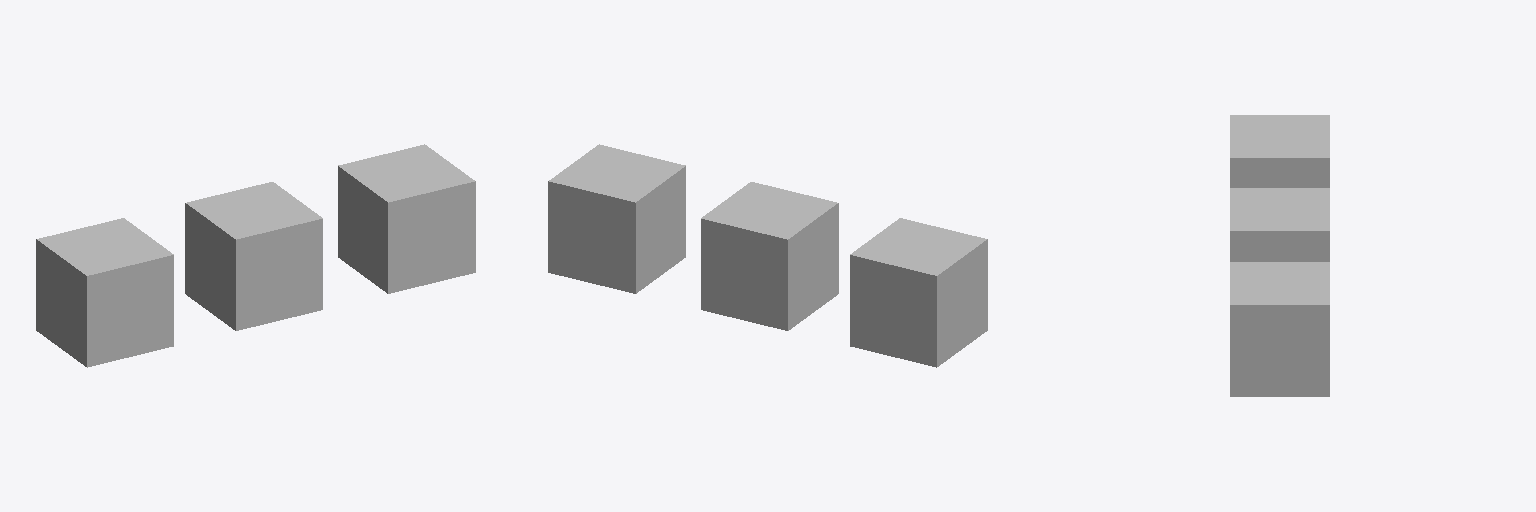
File: caja_tiempo.obj
3 views of the same model, side by side, from view 1: azimuth 30°, elevation 25°; view 2: azimuth 150°, elevation 25°; view 3: azimuth 270°, elevation 25° (orthographic).
Parts seen in each view (by area): view 1: crate_01_hi, crate_03_hi, crate_02_hi; view 2: crate_01_hi, crate_03_hi, crate_02_hi; view 3: crate_03_hi, crate_02_hi, crate_01_hi.
Boxes of the visible parts, box(x1,y1,x2,y2) form: crate_01_hi: box(36, 218, 173, 367); crate_03_hi: box(338, 144, 475, 293); crate_02_hi: box(185, 182, 322, 330); crate_01_hi: box(850, 218, 987, 367); crate_03_hi: box(548, 144, 685, 293); crate_02_hi: box(701, 182, 838, 330); crate_03_hi: box(1230, 262, 1329, 396); crate_02_hi: box(1230, 188, 1329, 261); crate_01_hi: box(1230, 115, 1329, 187).
Bounding box in the file's own units: 7.76 × 1.75 × 1.75.